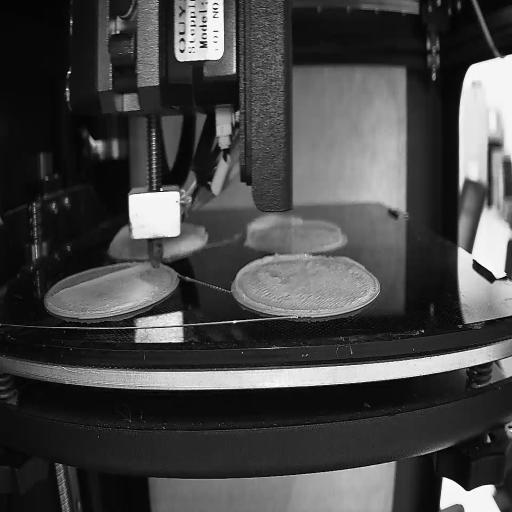over_extrusion: (234, 254, 309, 315), (52, 262, 150, 297), (243, 213, 302, 241), (332, 254, 365, 271), (305, 218, 339, 232)
